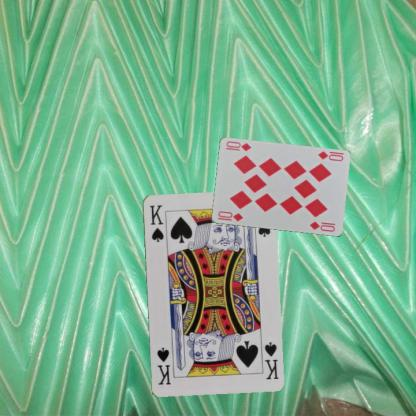10d: (215, 208, 244, 223), (315, 148, 344, 163)
Ks: (146, 202, 164, 243), (262, 339, 280, 380)
